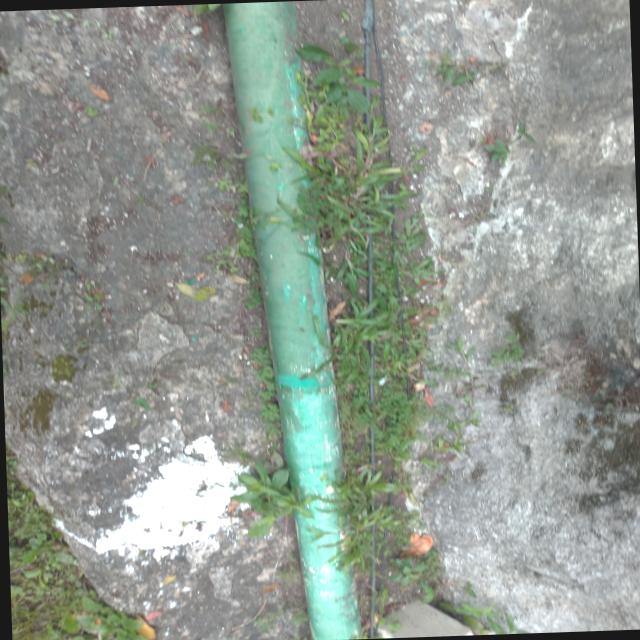gas: (218, 0, 360, 640)
